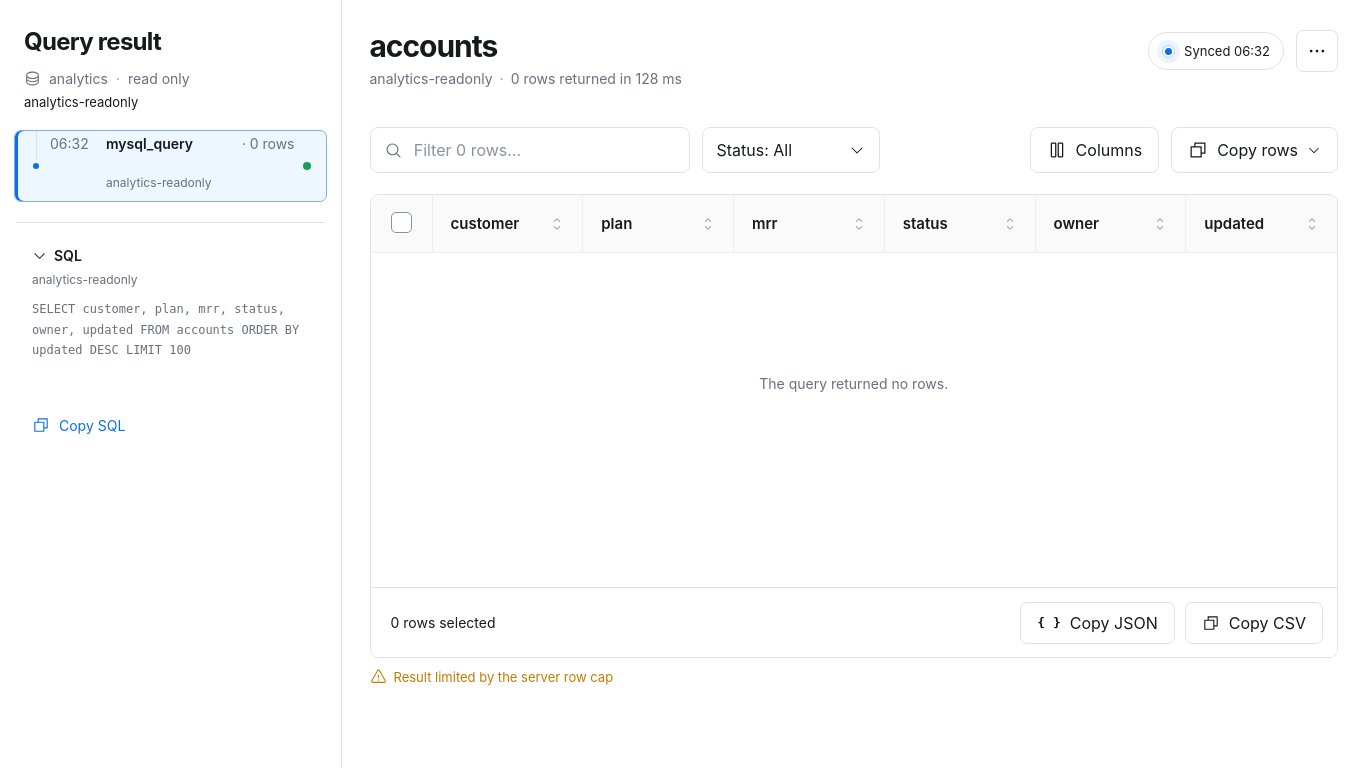
Test case: query results host states › renders empty rows, truncation and the no-refresh capability message
Expected: the text "The query returned no rows." is shown, [759,374,948,392]
Expected: the text "Result limited by the server row cap" is shown, [370,668,613,685]
Click the button named "More actions": [1317, 51] box [1296,30,1338,72]
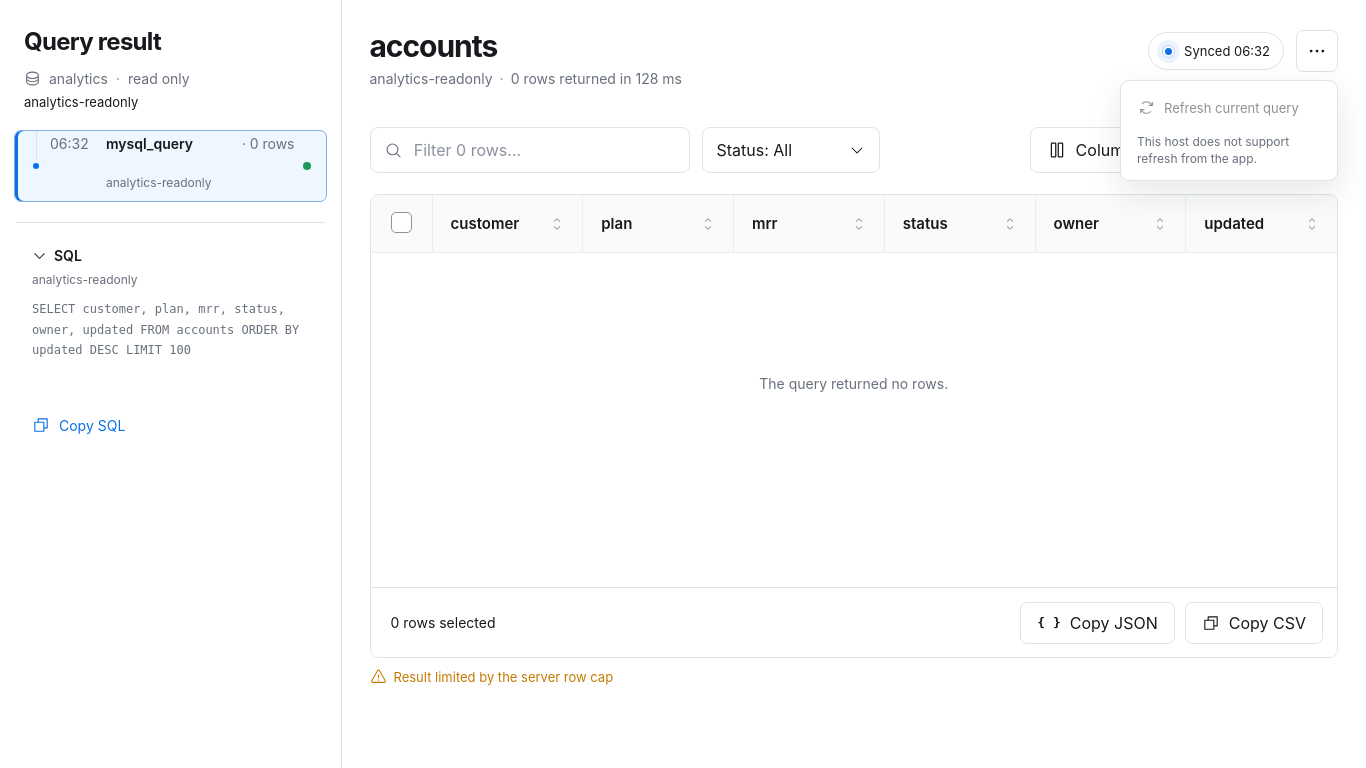
Now the text "This host does not support refresh from the app." is shown, box [1137,134,1289,166]
